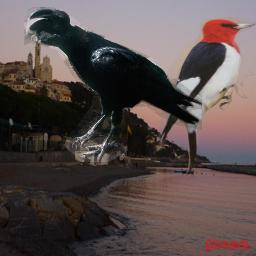Crow: (24, 7, 202, 162)
Woodpecker: (158, 17, 256, 177)
